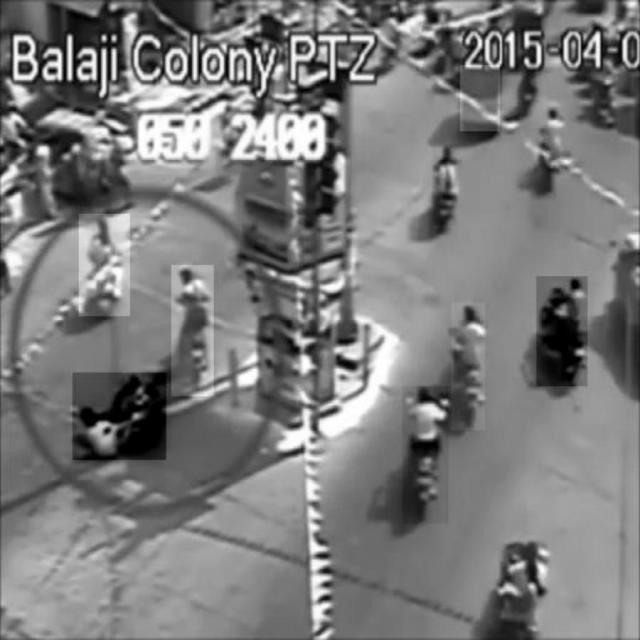vehicle: (73, 372, 166, 460), (403, 388, 449, 525), (537, 277, 588, 387), (173, 265, 215, 396), (79, 214, 130, 316), (451, 302, 485, 430), (461, 65, 501, 131), (538, 107, 562, 197), (433, 145, 457, 225)
